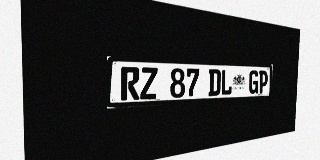7: (185, 68, 200, 97)
8: (170, 68, 185, 98)
D: (208, 69, 221, 96)
G: (249, 70, 259, 94)
L: (221, 69, 233, 95)
P: (258, 70, 268, 93)
R: (121, 67, 140, 101)
Z: (140, 67, 158, 100)
